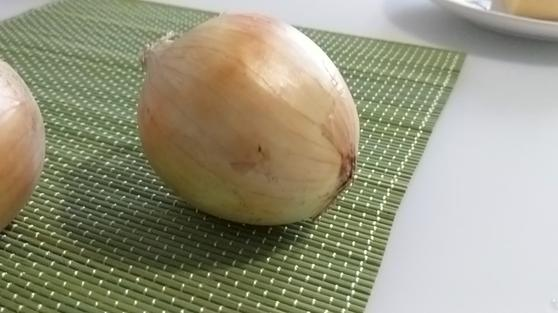onion: (136, 13, 361, 224)
